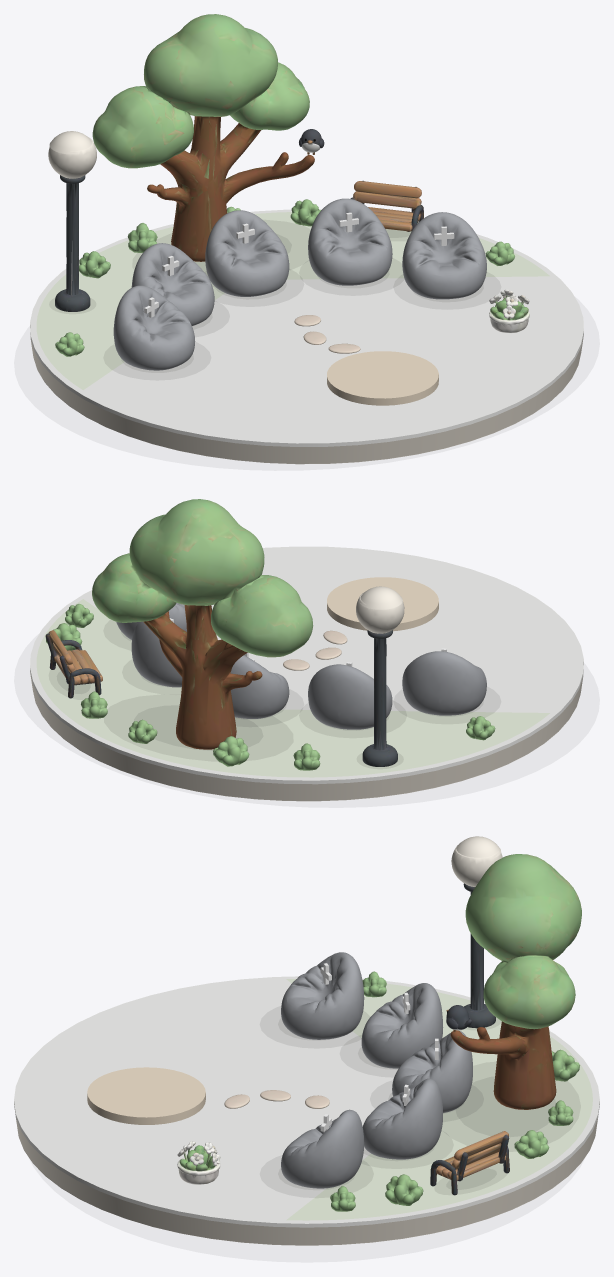
File: plaza.glb
3 views of the same model, one above another, from view 1: azimuth 30°, elevation 25°; view 2: azimuth 150°, elevation 25°; view 3: azimuth 270°, elevation 25° (orthographic). The views are drawn at different scales.
Parts seen in each view (by area): view 1: plate_q, tree_crown_q, lawn_q, rim_q, tree_trunk_q, cushion5_q, cushion4_q, cushion3_q, cushion1_q, talk_q, cushion2_q, bench_q (+7 smaller); view 2: plate_q, lawn_q, tree_crown_q, rim_q, tree_trunk_q, cushion1_q, cushion2_q, talk_q, cushion3_q, lamp_pole_q, cushion4_q, bench_q (+11 smaller); view 3: plate_q, lawn_q, tree_crown_q, rim_q, talk_q, cushion1_q, tree_trunk_q, cushion4_q, cushion2_q, cushion5_q, cushion3_q, shadows_q (+9 smaller).
Part boxes in pixels (x1,y1,x2,y2): plate_q: (30,209,583,446); tree_crown_q: (92,14,309,168); lawn_q: (36,212,549,390); rim_q: (30,336,583,464); tree_trunk_q: (147,116,314,261); cushion5_q: (402,212,486,299); cushion4_q: (308,198,392,285); cushion3_q: (205,210,289,296); cushion1_q: (113,285,195,370); talk_q: (327,351,438,405); cushion2_q: (131,243,214,325); bench_q: (350,180,423,231); plate_q: (30,546,583,784); lawn_q: (36,599,549,777); tree_crown_q: (92,499,313,657); rim_q: (30,674,582,801); tree_trunk_q: (143,605,262,749); cushion1_q: (402,651,486,715); cushion2_q: (308,664,392,729); talk_q: (327,577,438,631); cushion3_q: (230,655,289,718); lamp_pole_q: (362,630,397,766); cushion4_q: (131,621,182,687); bench_q: (45,630,102,698); plate_q: (14,976,599,1227); lawn_q: (286,979,592,1220); tree_crown_q: (465,854,581,1029); rim_q: (16,1119,597,1245); talk_q: (87,1067,205,1124); cushion1_q: (281,952,364,1039); tree_trunk_q: (450,1021,556,1109); cushion4_q: (362,1078,442,1159); cushion2_q: (361,983,443,1068); cushion5_q: (281,1109,364,1188); cushion3_q: (392,1031,472,1112); shadows_q: (447,1077,555,1189).
Size of the model in its own units: 9.1 by 4.35 by 8.4.
Materials: 22 (14 with a texture image).
